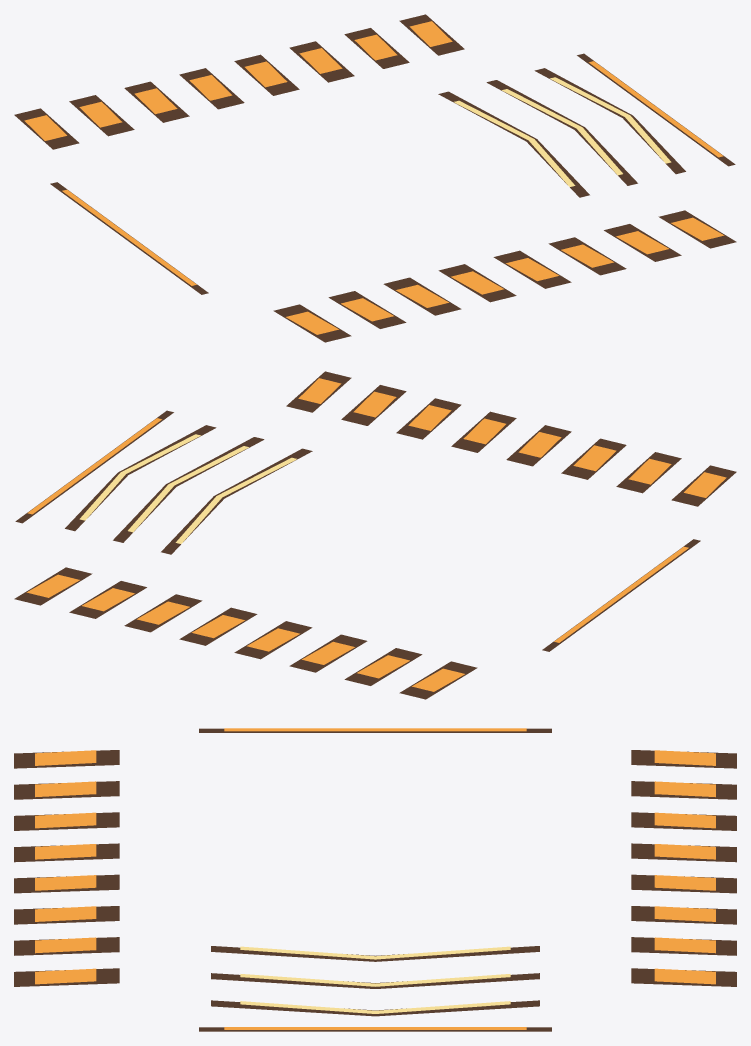
Rendered from e3-plumb-lane.glb.
The picture shows the model from 3 angles, top to bottom: view 1: azimuth 30°, elevation 25°; view 2: azimuth 150°, elevation 25°; view 3: azimuth 270°, elevation 25°; orthographic projection. The views are drawn at different scales.
Visible parts, largest first — view 1: e3-plumb-lane; view 2: e3-plumb-lane; view 3: e3-plumb-lane.
Part boxes in pixels (<box>): e3-plumb-lane: <box>14,14,736,342</box>; e3-plumb-lane: <box>14,371,736,699</box>; e3-plumb-lane: <box>14,728,736,1031</box>.
Bounding box in the file's own units: 1 × 0.00125 × 1.01.
